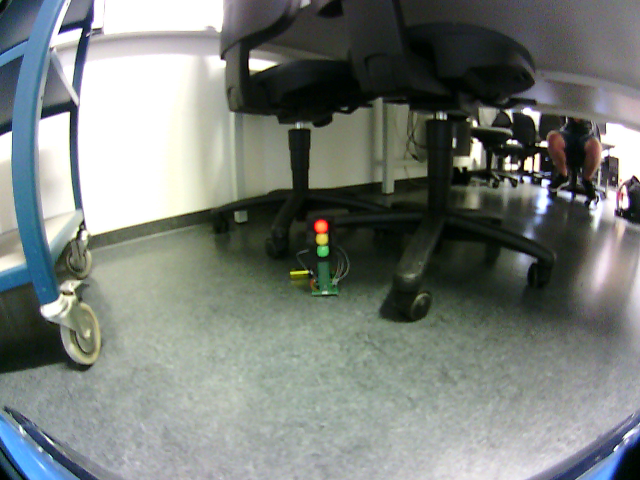red trafficlight: (310, 216, 334, 258)
